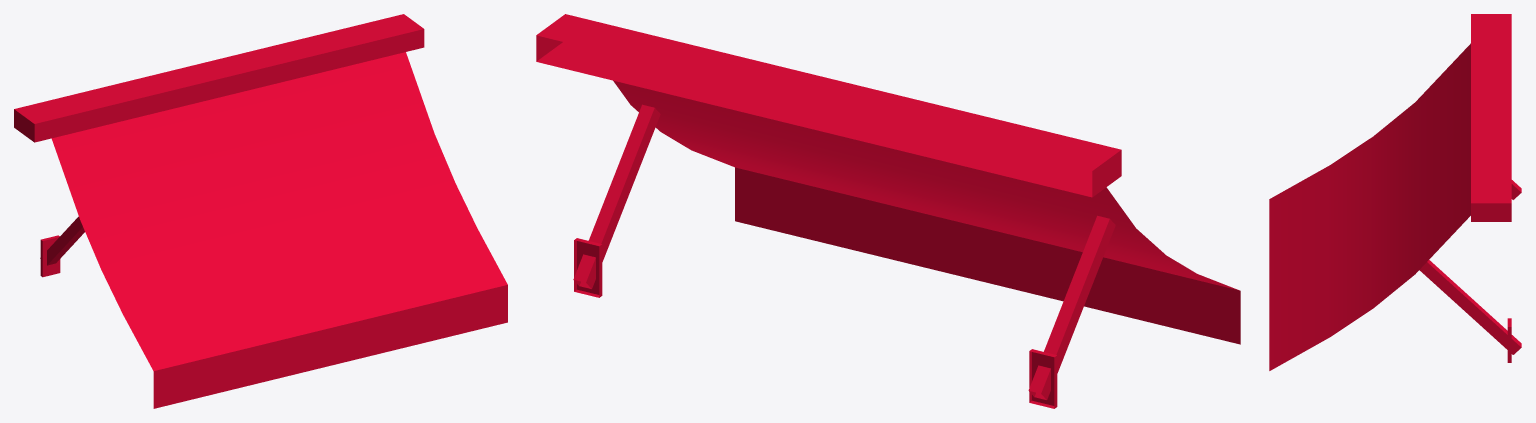
Rendered from market_tent.fbx.
3 renders of one model, left to right at view 1: azimuth 30°, elevation 25°; view 2: azimuth 150°, elevation 25°; view 3: azimuth 270°, elevation 25°, orthographic. The views are drawn at different scales.
Parts seen in each view (by area): view 1: market_mainwall.002; view 2: market_mainwall.002; view 3: market_mainwall.002.
Part boxes in pixels (<box>): market_mainwall.002: <box>14,14,507,408</box>; market_mainwall.002: <box>536,14,1240,408</box>; market_mainwall.002: <box>1269,14,1521,370</box>.
Size of the model in its own units: 220 by 116 by 124.
